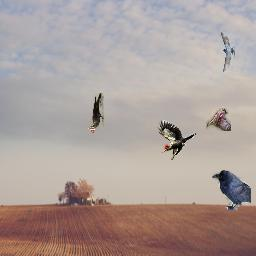Crow: (212, 170, 251, 210)
Sparrow: (206, 108, 231, 131)
Swallow: (221, 32, 237, 72)
Woodpecker: (157, 120, 196, 160), (87, 93, 104, 133)
